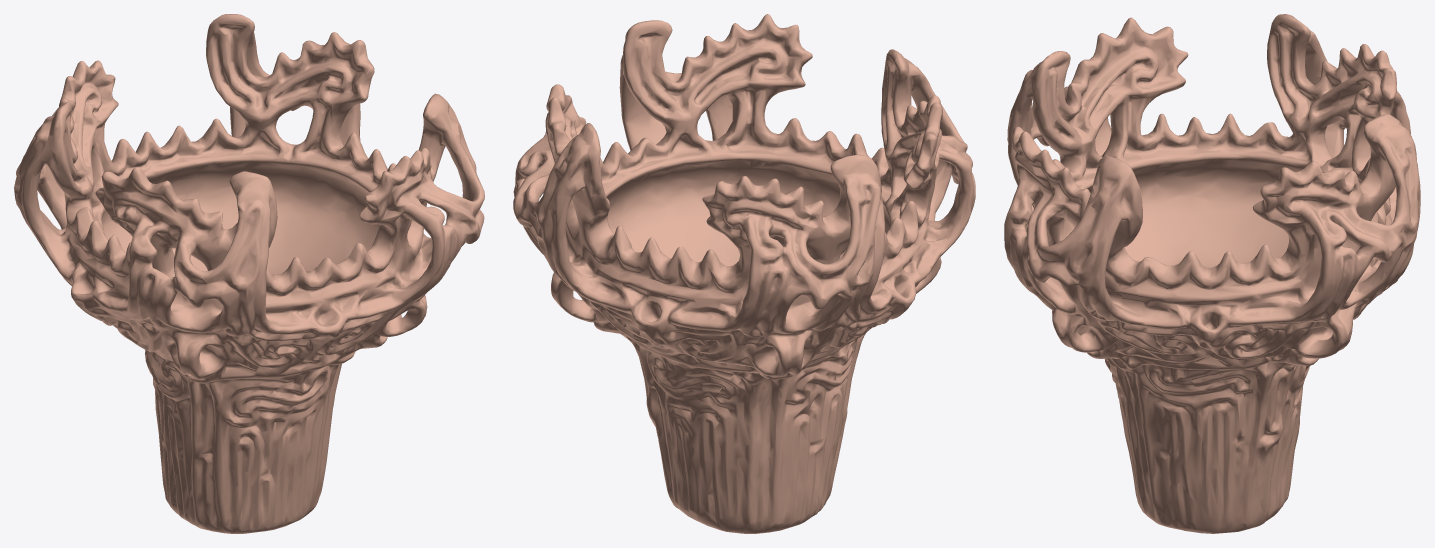
The model's file is wc-kaen-doki-jomon-flame-pot.glb.
3 renders of one model, left to right at view 1: azimuth 30°, elevation 25°; view 2: azimuth 150°, elevation 25°; view 3: azimuth 270°, elevation 25°, orthographic. The views are drawn at different scales.
Parts seen in each view (by area): view 1: wc-kaen-doki-jomon-flame-pot; view 2: wc-kaen-doki-jomon-flame-pot; view 3: wc-kaen-doki-jomon-flame-pot.
Boxes of the visible parts, x1,y1,x2,y2 form: wc-kaen-doki-jomon-flame-pot: (14, 14, 484, 533); wc-kaen-doki-jomon-flame-pot: (513, 14, 975, 533); wc-kaen-doki-jomon-flame-pot: (1004, 14, 1420, 533).
Size of the model in its own units: 0.4113 by 0.4599 by 0.4044.
